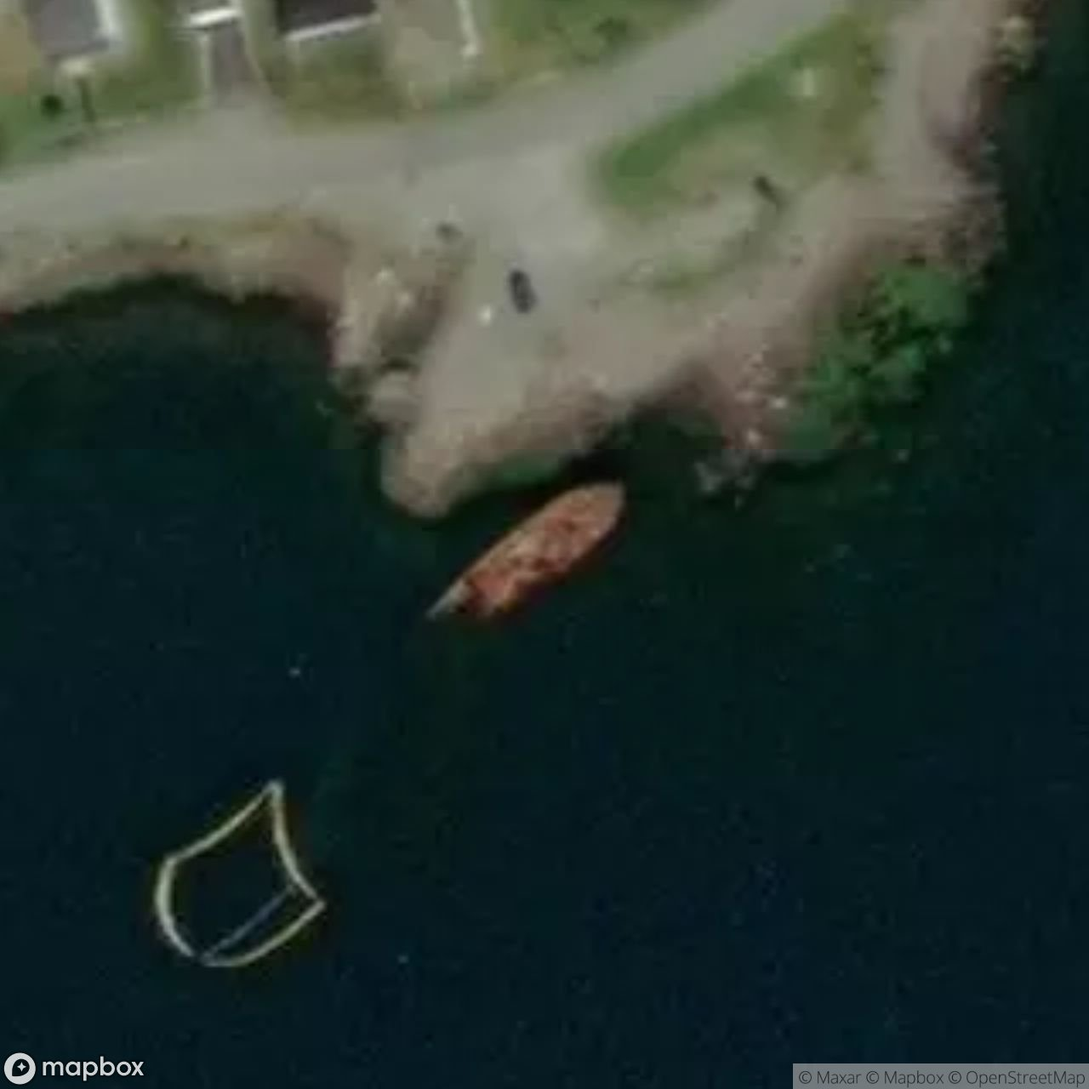Wreck: (335, 541, 704, 675)
